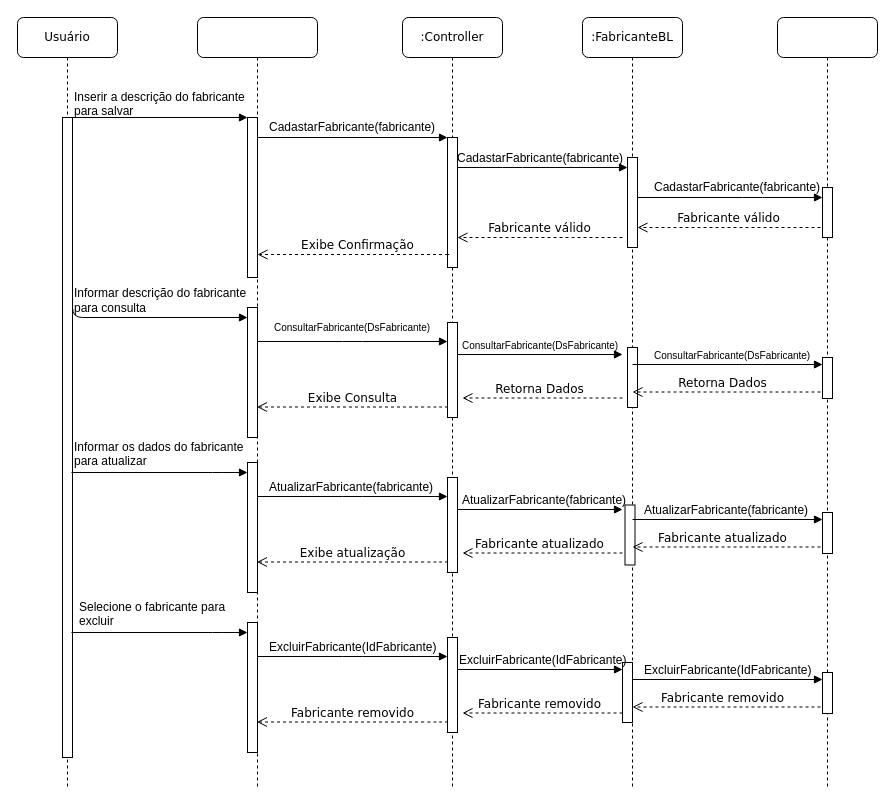
Image size: 895x805. Some labels were removed from this diagram. Here are the shapes that lost their labels. From the top down, the centre of each, then its label:
At [257,402]: ":frmManterFabricantes".
At [827,402]: ":FabricanteDAO".
